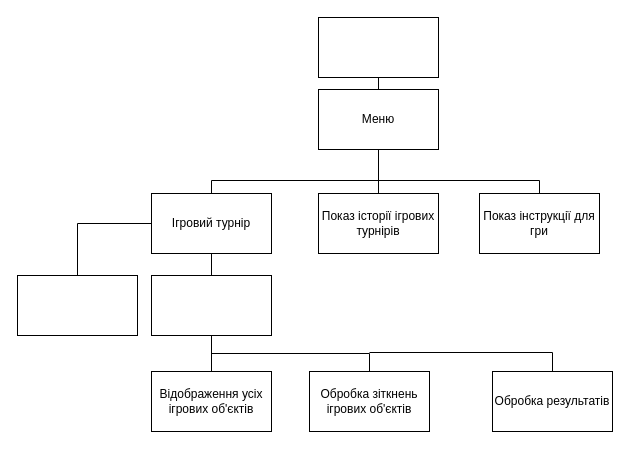
Image size: 630x449. Some labels were removed from this diagram. Each missing label, with the centre of its shape:
Відображення результатів: point 77,305
Ігрова сесія: point 211,305
Ігровий застосунок "2 3 4 Player Games": point 378,47
